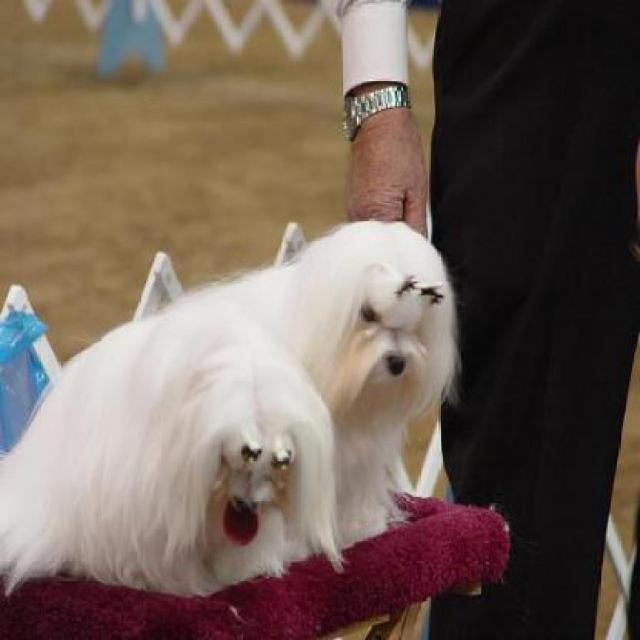Dog: (0, 297, 345, 594)
